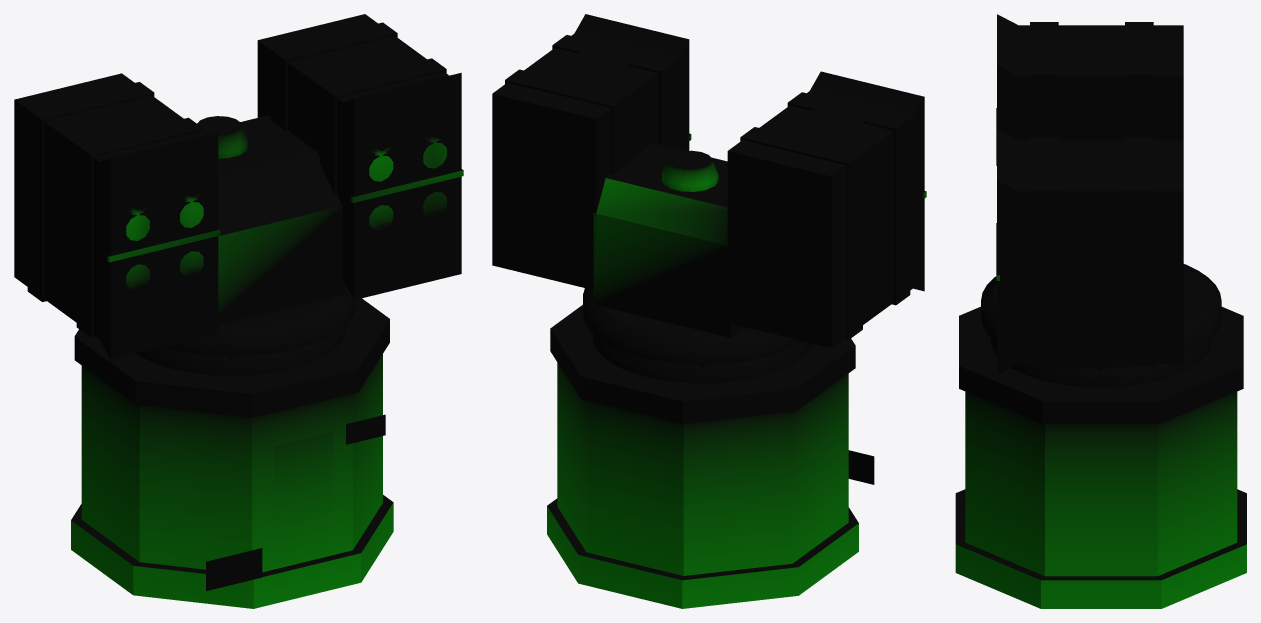
File: srmturret.glb
The picture shows the model from 3 angles, left to right: view 1: azimuth 30°, elevation 25°; view 2: azimuth 150°, elevation 25°; view 3: azimuth 270°, elevation 25°; orthographic projection. The views are drawn at different scales.
Parts seen in each view (by area): view 1: lod0_Gun, lod0_Base, lod0_Turret, lod1_Gun, lod1_Turret; view 2: lod0_Gun, lod0_Base, lod0_Turret, lod1_Turret; view 3: lod0_Base, lod0_Gun, lod0_Turret, lod1_Turret.
Boxes of the visible parts, x1,y1,x2,y2 form: lod0_Gun: (14,14,463,359); lod0_Base: (71,298,393,608); lod0_Turret: (162,115,356,356); lod1_Gun: (127,91,445,340); lod1_Turret: (188,290,354,356); lod0_Gun: (492,14,926,347); lod0_Base: (547,305,874,608); lod0_Turret: (583,143,803,364); lod1_Turret: (584,288,780,364); lod0_Base: (955,306,1246,608); lod0_Gun: (996,14,1183,374); lod0_Turret: (981,264,1221,368); lod1_Turret: (983,266,1219,365).
Bounding box in the file's own units: 6.28 × 7.85 × 4.61.
